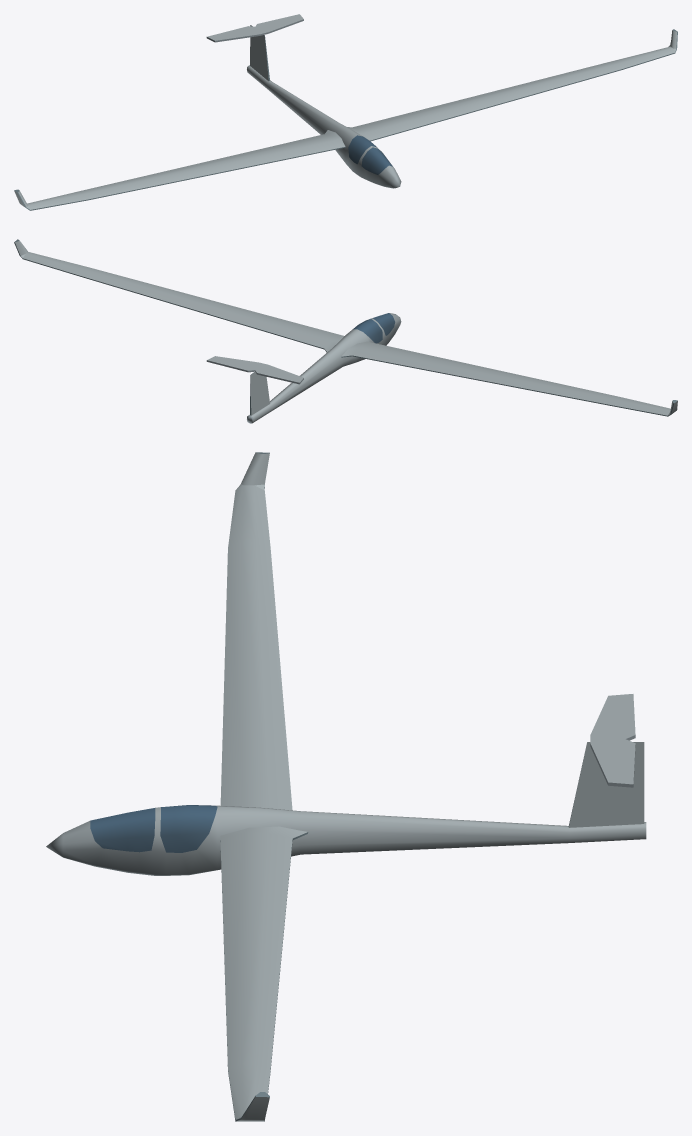
File: vehicles-aircraft-glider_v1.fbx
The picture shows the model from 3 angles, top to bottom: view 1: azimuth 30°, elevation 25°; view 2: azimuth 150°, elevation 25°; view 3: azimuth 270°, elevation 25°; orthographic projection. The views are drawn at different scales.
Visible parts, largest first — view 1: Glider; view 2: Glider; view 3: Glider.
Part boxes in pixels (bbox=[...]): Glider: bbox=[14, 14, 677, 210]; Glider: bbox=[14, 239, 677, 423]; Glider: bbox=[46, 452, 646, 1121].
Size of the model in its own units: 18 by 1.73 by 7.08.
